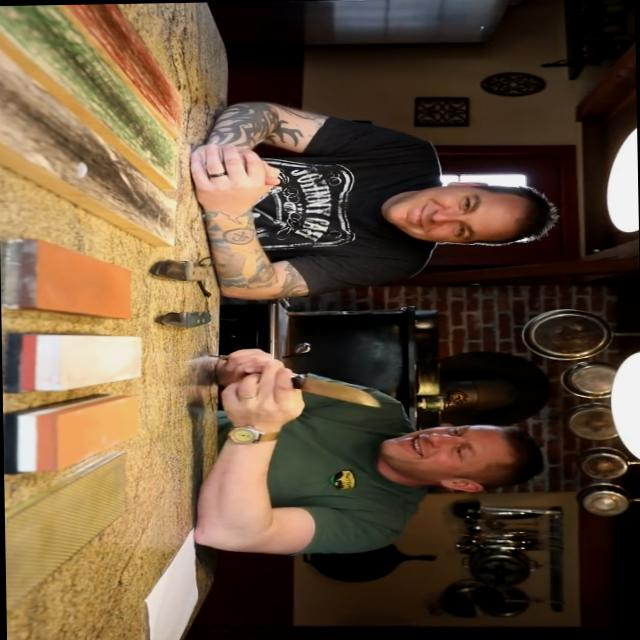knife: (238, 348, 392, 417)
